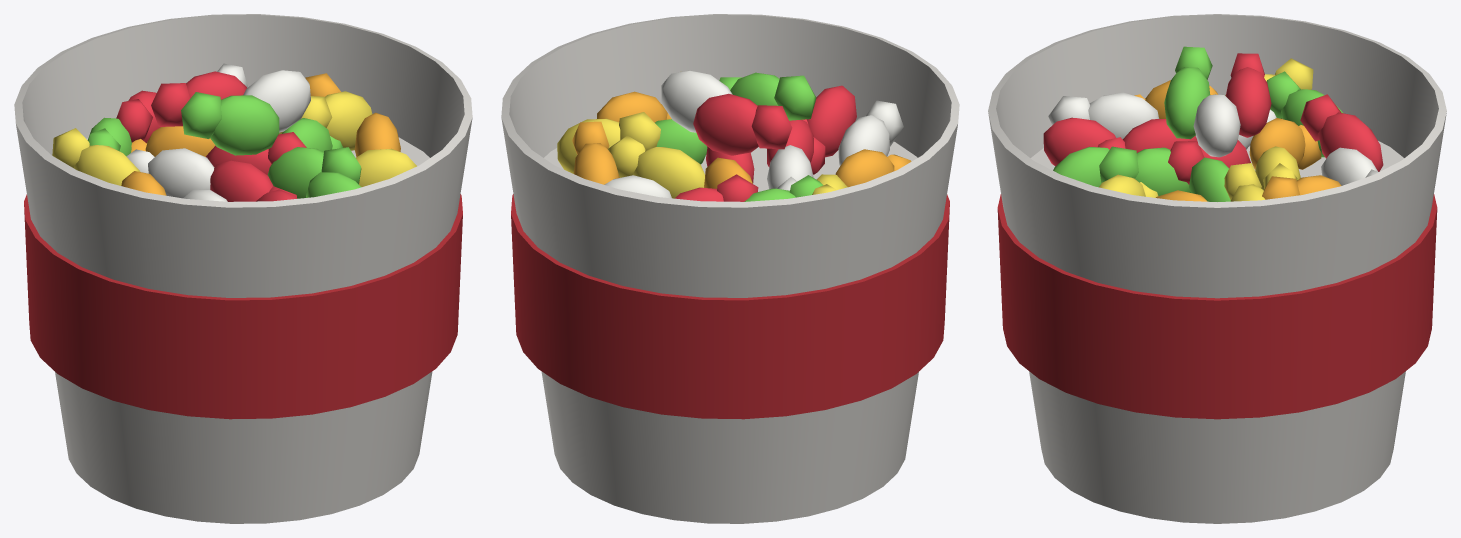
Rendered from food_gummies.glb.
3 renders of one model, left to right at view 1: azimuth 30°, elevation 25°; view 2: azimuth 150°, elevation 25°; view 3: azimuth 270°, elevation 25°, orthographic.
Parts seen in each view (by area): view 1: Cup_LOD0, Band_LOD0, Bear_LOD0.021, Bear_LOD0.004, Bear_LOD0.019, Bear_LOD0.005, Bear_LOD0.006, Bear_LOD0.007, Bear_LOD0.012, Bear_LOD0.017, Head_LOD0.021, Bear_LOD0.018 (+14 smaller); view 2: Cup_LOD0, Band_LOD0, Bear_LOD0.020, Bear_LOD0.019, Bear_LOD0.002, Bear_LOD0.015, Bear_LOD0.014, Floor_LOD0, Bear_LOD0.013, Head_LOD0.020, Head_LOD0.021, Bear_LOD0.018 (+15 smaller); view 3: Cup_LOD0, Band_LOD0, Bear_LOD0.019, Bear_LOD0.021, Bear_LOD0.020, Bear_LOD0.010, Bear_LOD0.014, Bear_LOD0.015, Bear_LOD0.003, Bear_LOD0.006, Bear_LOD0.001, Bear_LOD0.009 (+19 smaller).
Boxes of the visible parts, left/top/right/bottom form: Cup_LOD0: left=14, top=14, right=472, bottom=523; Band_LOD0: left=24, top=194, right=462, bottom=419; Bear_LOD0.021: left=210, top=95, right=279, bottom=155; Bear_LOD0.004: left=148, top=148, right=214, bottom=198; Bear_LOD0.019: left=243, top=70, right=310, bottom=132; Bear_LOD0.005: left=210, top=160, right=273, bottom=201; Bear_LOD0.006: left=267, top=147, right=323, bottom=198; Bear_LOD0.007: left=325, top=91, right=372, bottom=150; Bear_LOD0.012: left=73, top=145, right=140, bottom=185; Bear_LOD0.017: left=356, top=148, right=416, bottom=186; Head_LOD0.021: left=181, top=92, right=221, bottom=138; Bear_LOD0.018: left=354, top=112, right=400, bottom=156; Cup_LOD0: left=501, top=14, right=959, bottom=523; Band_LOD0: left=511, top=194, right=949, bottom=419; Bear_LOD0.020: left=693, top=93, right=758, bottom=155; Bear_LOD0.019: left=661, top=70, right=732, bottom=132; Bear_LOD0.002: left=633, top=147, right=704, bottom=198; Bear_LOD0.015: left=807, top=85, right=856, bottom=157; Bear_LOD0.014: left=838, top=115, right=889, bottom=165; Floor_LOD0: left=544, top=141, right=917, bottom=191; Bear_LOD0.013: left=835, top=149, right=894, bottom=187; Head_LOD0.020: left=751, top=105, right=792, bottom=149; Head_LOD0.021: left=774, top=75, right=816, bottom=120; Bear_LOD0.018: left=597, top=91, right=667, bottom=122; Cup_LOD0: left=988, top=14, right=1446, bottom=523; Band_LOD0: left=997, top=194, right=1437, bottom=419; Bear_LOD0.019: left=1193, top=94, right=1240, bottom=157; Bear_LOD0.021: left=1164, top=67, right=1210, bottom=139; Bear_LOD0.020: left=1226, top=67, right=1271, bottom=137; Bear_LOD0.010: left=1318, top=112, right=1383, bottom=171; Bear_LOD0.014: left=1088, top=92, right=1159, bottom=139; Bear_LOD0.015: left=1043, top=117, right=1115, bottom=166; Bear_LOD0.003: left=1249, top=118, right=1305, bottom=169; Bear_LOD0.006: left=1135, top=147, right=1190, bottom=195; Bear_LOD0.001: left=1189, top=157, right=1230, bottom=201; Bear_LOD0.009: left=1321, top=147, right=1377, bottom=185.
Size of the model in its own units: 0.086 by 0.0776 by 0.086.
